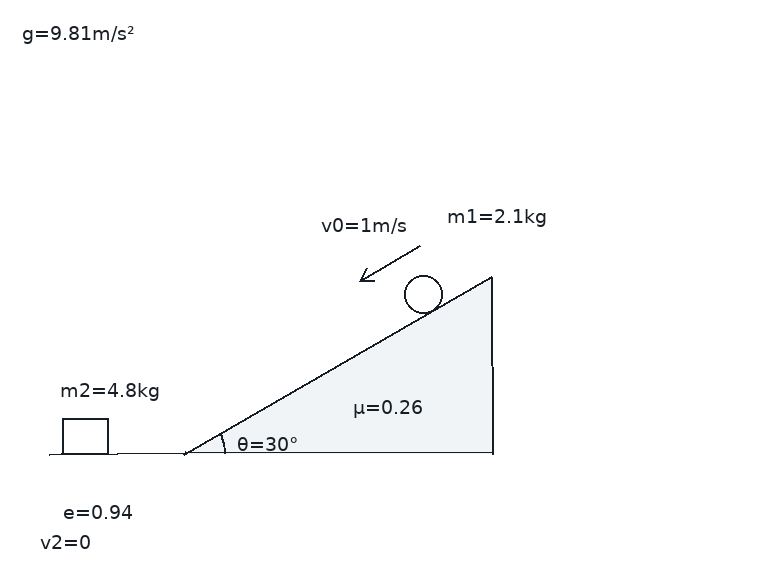ball: (402, 273, 444, 315)
block: (60, 417, 110, 455)
ramp: (183, 274, 494, 455)
